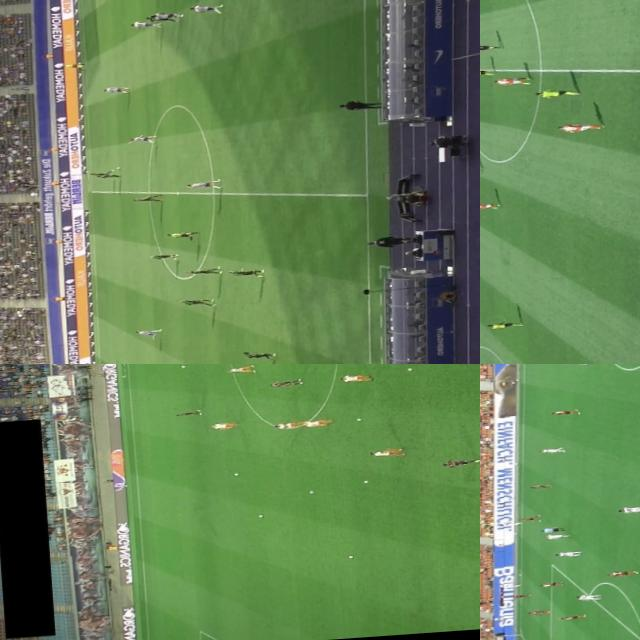ball: (358, 478, 371, 484), (254, 513, 264, 519), (111, 166, 121, 171), (306, 489, 314, 495), (232, 471, 239, 476), (178, 366, 186, 370), (406, 366, 412, 371), (356, 418, 363, 421), (346, 555, 354, 557), (518, 574, 522, 576)
player: (480, 318, 526, 331), (532, 87, 576, 100), (224, 266, 264, 280), (556, 121, 606, 132), (180, 178, 220, 191), (491, 74, 530, 87), (188, 3, 222, 17), (175, 296, 212, 308), (138, 14, 171, 26), (98, 83, 130, 95), (338, 374, 372, 385), (128, 193, 159, 205), (439, 458, 480, 467), (185, 266, 221, 276), (150, 251, 177, 264), (369, 449, 404, 459), (242, 350, 274, 360), (544, 408, 576, 418), (570, 592, 600, 602), (611, 504, 640, 514), (551, 549, 582, 558), (268, 380, 302, 388), (133, 328, 159, 338), (128, 135, 154, 145), (151, 12, 177, 22), (226, 366, 258, 374), (302, 418, 332, 426), (554, 613, 584, 621), (273, 421, 305, 428), (534, 580, 562, 588), (606, 570, 638, 577), (480, 201, 501, 211), (86, 170, 112, 178), (542, 532, 568, 540), (536, 447, 562, 455), (514, 515, 540, 523), (129, 21, 157, 28), (210, 422, 238, 429), (95, 172, 119, 180), (524, 608, 548, 616), (498, 582, 518, 590), (176, 411, 206, 416), (509, 593, 529, 599), (480, 68, 491, 78), (528, 484, 550, 489), (564, 364, 590, 367)
